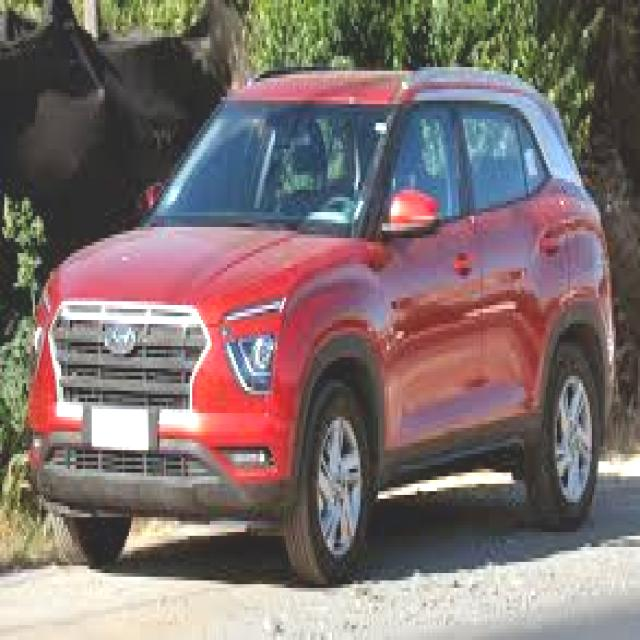SUV: (17, 60, 617, 575)
